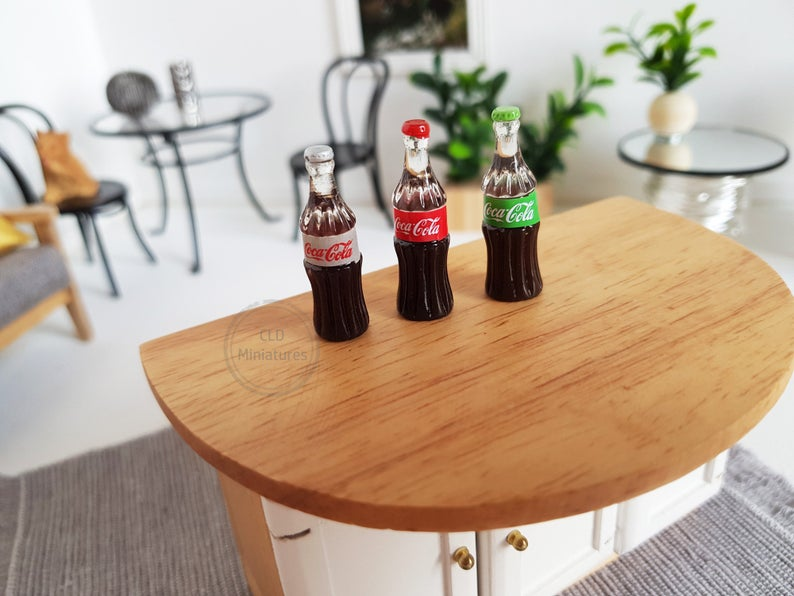glass_bottle: (298, 141, 372, 344), (389, 116, 457, 328), (478, 102, 547, 305)
